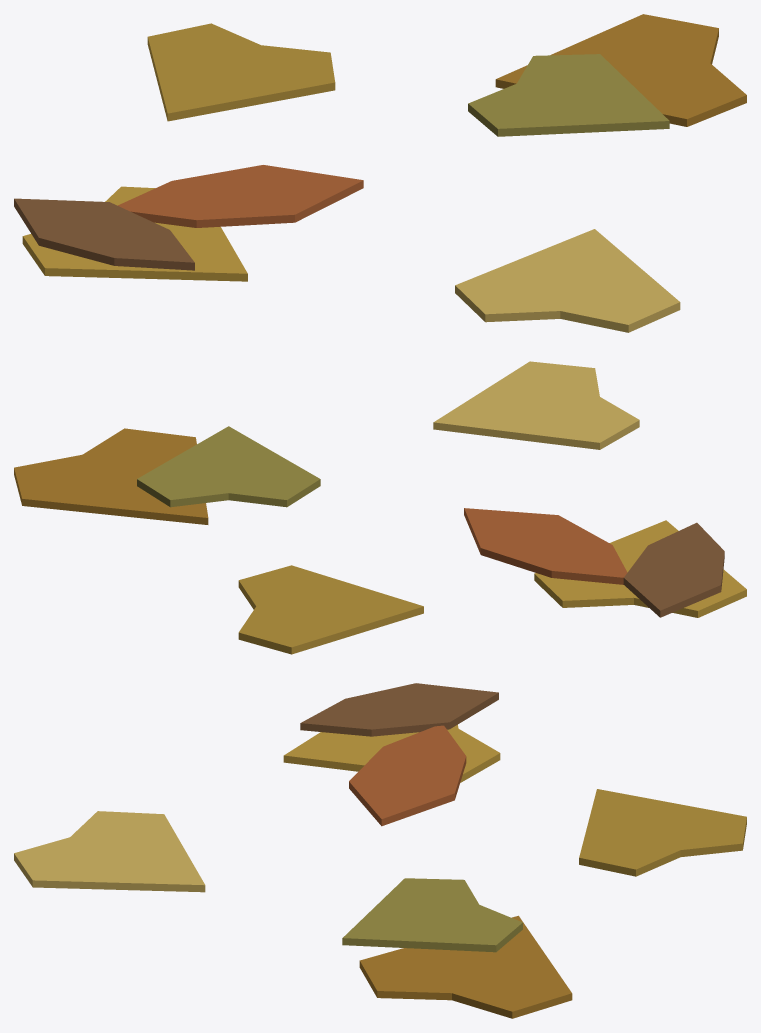
File: nature_scatter_leaves_01.glb
3 views of the same model, one above another, from view 1: azimuth 30°, elevation 25°; view 2: azimuth 150°, elevation 25°; view 3: azimuth 270°, elevation 25° (orthographic). The views are drawn at different scales.
Parts seen in each view (by area): view 1: nature_scatter_leaves_01; view 2: nature_scatter_leaves_01; view 3: nature_scatter_leaves_01.
Boxes of the visible parts, left/top/right/bottom form: nature_scatter_leaves_01: left=14, top=14, right=746, bottom=332; nature_scatter_leaves_01: left=14, top=361, right=746, bottom=654; nature_scatter_leaves_01: left=14, top=683, right=746, bottom=1018.
Size of the model in its own units: 0.3935 by 0.013 by 0.3744.
